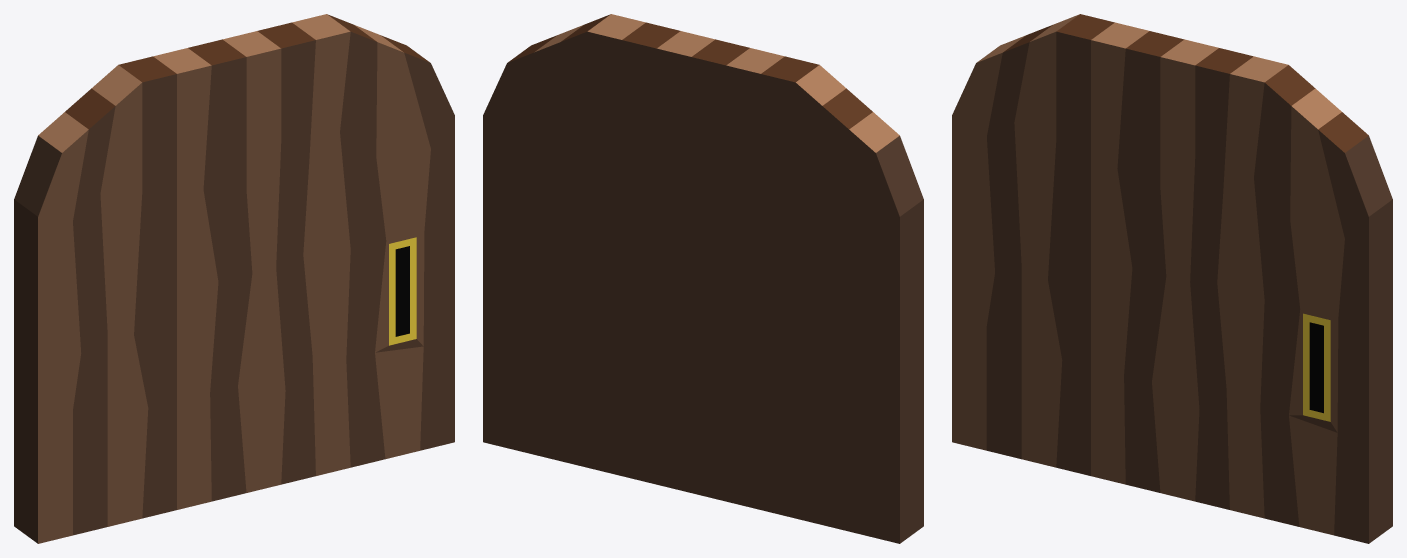
Rendered from locked.fbx.
3 views of the same model, side by side, from view 1: azimuth 30°, elevation 25°; view 2: azimuth 150°, elevation 25°; view 3: azimuth 330°, elevation 25° (orthographic).
Parts seen in each view (by area): view 1: Cube; view 2: Cube; view 3: Cube.
Part boxes in pixels (bbox=[...]): Cube: bbox=[14, 14, 454, 543]; Cube: bbox=[483, 14, 923, 543]; Cube: bbox=[952, 14, 1392, 543].
Size of the model in its own units: 100 by 100 by 10.
